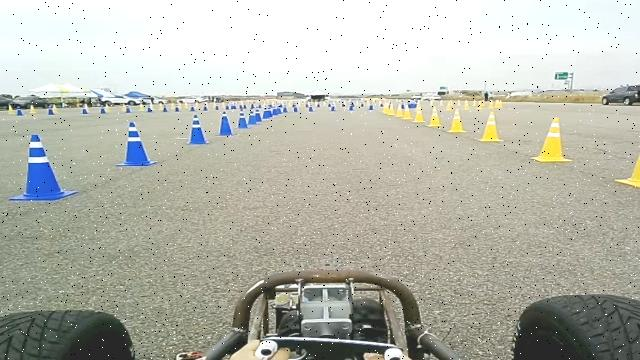blue cone: (8, 133, 78, 201), (115, 122, 157, 166), (186, 113, 208, 145), (215, 111, 235, 136), (236, 110, 250, 128)
yellow cone: (530, 116, 572, 162), (614, 124, 640, 188), (477, 111, 503, 142), (447, 108, 466, 133), (427, 107, 442, 127), (412, 105, 425, 123), (547, 117, 560, 134), (402, 108, 412, 119), (395, 105, 403, 117)
